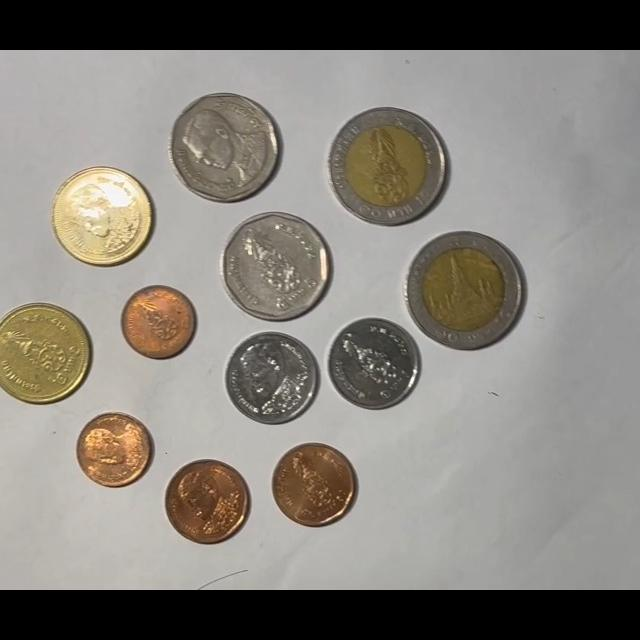1-baht: (327, 317, 422, 411), (224, 331, 319, 425)
10-baht: (406, 230, 525, 350), (328, 107, 447, 226)
2-baht: (51, 167, 152, 267), (0, 302, 91, 404)
25-satang: (76, 412, 154, 488), (121, 285, 195, 359)
5-baht: (169, 93, 281, 204), (220, 212, 330, 322)
50-satang: (164, 459, 250, 545), (271, 443, 356, 528)
